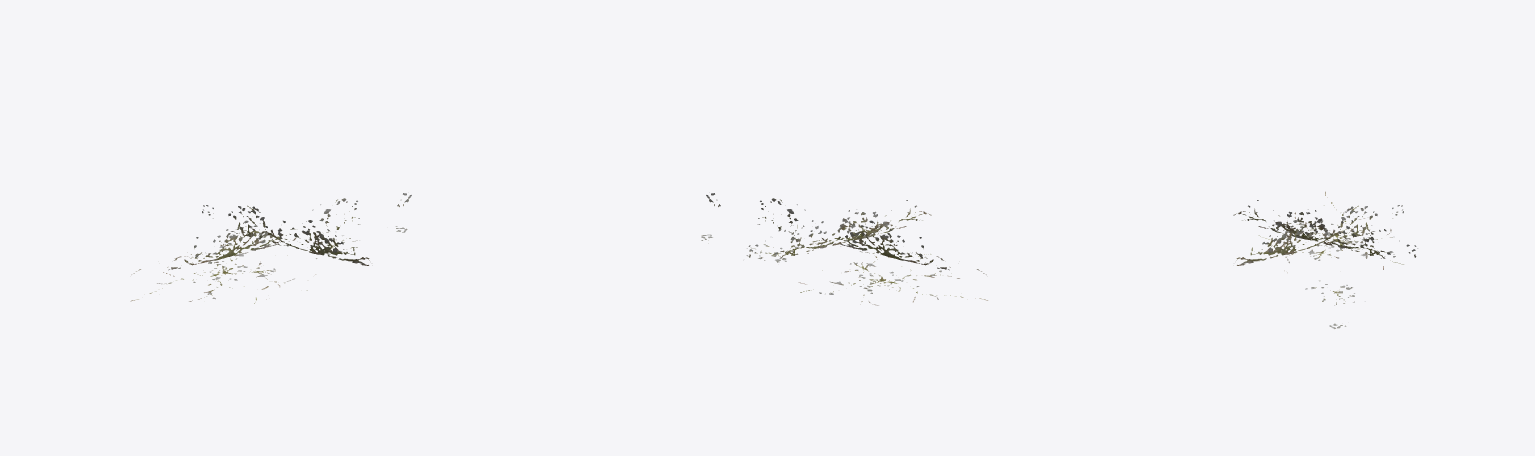
The model's file is f3_v3_whiteflower_atlas.glb.
The picture shows the model from 3 angles, left to right: view 1: azimuth 30°, elevation 25°; view 2: azimuth 150°, elevation 25°; view 3: azimuth 270°, elevation 25°; orthographic projection.
Visible parts, largest first — view 1: v3 whiteflower atlas MASK_surface; view 2: v3 whiteflower atlas MASK_surface; view 3: v3 whiteflower atlas MASK_surface.
Boxes of the visible parts, left/top/right/bottom form: v3 whiteflower atlas MASK_surface: left=130, top=193, right=411, bottom=303; v3 whiteflower atlas MASK_surface: left=701, top=193, right=987, bottom=305; v3 whiteflower atlas MASK_surface: left=1233, top=191, right=1417, bottom=328.
Bounding box in the file's own units: 1.4 × 1.05 × 1.4.
Materials: 1 (1 with a texture image).
